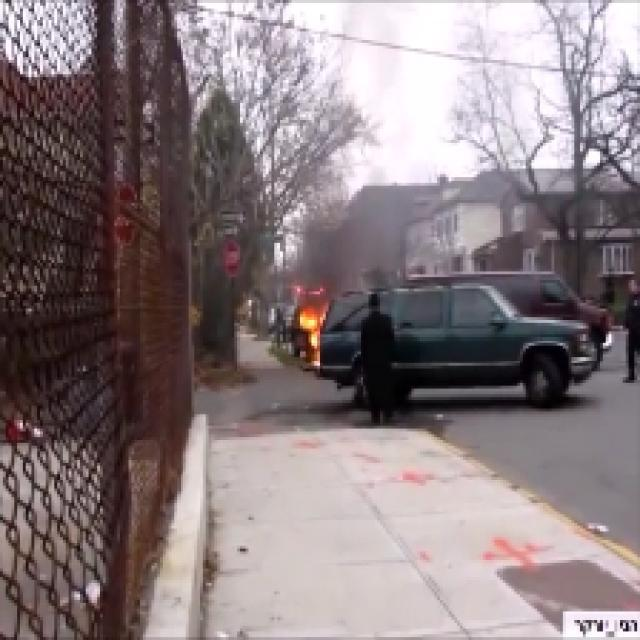Fire: (292, 303, 329, 367)
Smoke: (310, 208, 406, 278)
